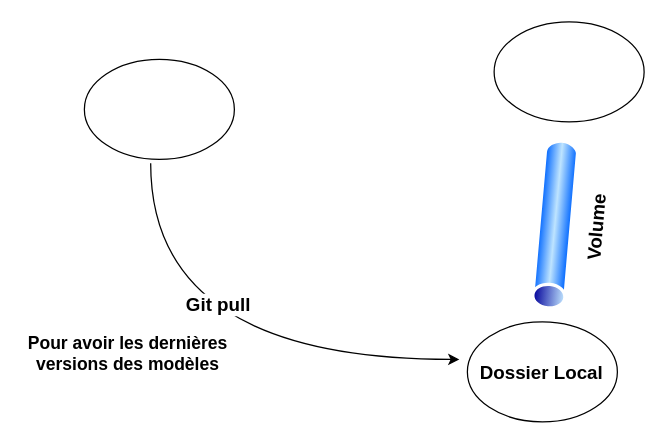
The diagram is 666 pixels wide and 444 high, and some of its shapes have lost their labels. Here are the shapes that lost their labels. From the top down, the centre of each, then its label:
the point at 568,71: Container
the point at 158,108: GitHub Repository
